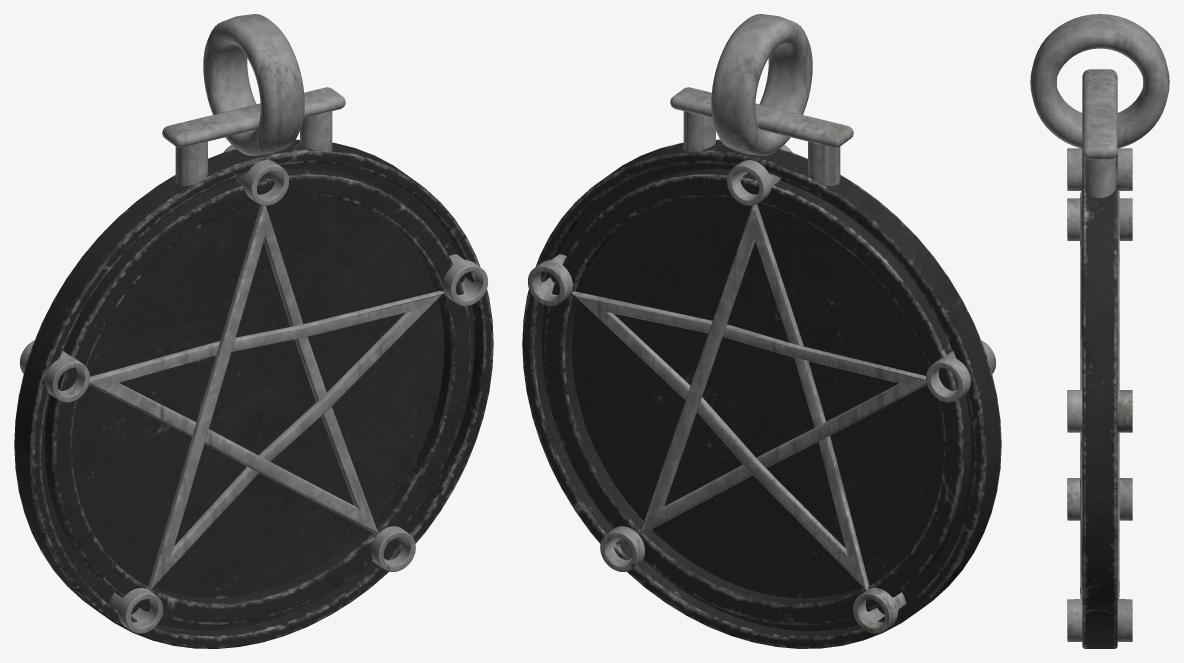
The picture shows the model from 3 angles, left to right: view 1: azimuth 30°, elevation 25°; view 2: azimuth 150°, elevation 25°; view 3: azimuth 270°, elevation 25°; orthographic projection.
Parts seen in each view (by area): view 1: Cylinder, Plane, Torus.002, Cube, Cylinder.003, Cylinder.002, Cylinder.005, Cylinder.001, Cylinder.004, Cylinder.006, Cylinder.007; view 2: Cylinder, Plane.001, Torus.002, Cube, Cylinder.003, Cylinder.002, Cylinder.005, Cylinder.001, Cylinder.004, Cylinder.006, Cylinder.007; view 3: Cylinder, Torus.002, Cube, Cylinder.004, Cylinder.005, Cylinder.001, Cylinder.002, Cylinder.003, Cylinder.007, Plane, Plane.001.
Boxes of the visible parts, box(x1,y1,x2,y2) form: Cylinder: box(14, 139, 493, 648); Plane: box(89, 205, 444, 590); Torus.002: box(203, 14, 304, 155); Cube: box(162, 87, 345, 147); Cylinder.003: box(109, 588, 162, 633); Cylinder.002: box(20, 340, 89, 402); Cylinder.005: box(443, 254, 488, 306); Cylinder.001: box(223, 145, 288, 205); Cylinder.004: box(371, 526, 415, 571); Cylinder.006: box(175, 141, 207, 185); Cylinder.007: box(300, 111, 332, 151); Cylinder: box(522, 139, 1001, 648); Plane.001: box(571, 204, 926, 589); Torus.002: box(711, 14, 812, 155); Cube: box(670, 87, 853, 147); Cylinder.003: box(853, 588, 906, 633); Cylinder.002: box(926, 340, 995, 402); Cylinder.005: box(527, 254, 572, 306); Cylinder.001: box(727, 145, 792, 205); Cylinder.004: box(600, 526, 644, 571); Cylinder.006: box(808, 141, 840, 185); Cylinder.007: box(683, 111, 715, 151); Cylinder: box(1082, 153, 1117, 648); Torus.002: box(1030, 14, 1169, 148); Cube: box(1082, 69, 1117, 159); Cylinder.004: box(1067, 599, 1132, 641); Cylinder.005: box(1067, 390, 1132, 432); Cylinder.001: box(1067, 148, 1132, 190); Cylinder.002: box(1067, 198, 1132, 240); Cylinder.003: box(1067, 478, 1132, 520); Cylinder.007: box(1084, 157, 1115, 197); Plane: box(1080, 191, 1082, 598); Plane.001: box(1117, 191, 1119, 598).
Bounding box in the file's own units: 596 × 757 × 158.
1 material, 1 textured.
